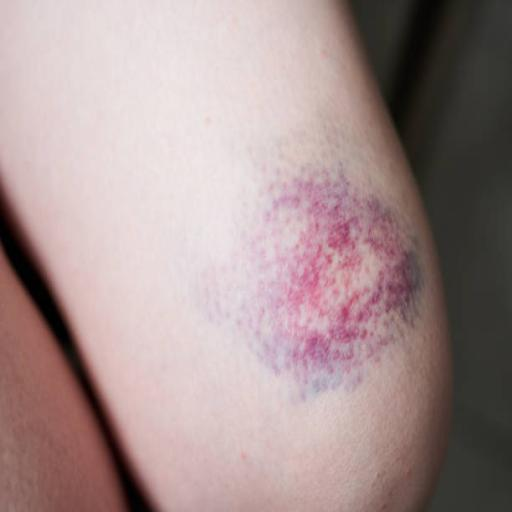bruises: (331, 208, 389, 325)
